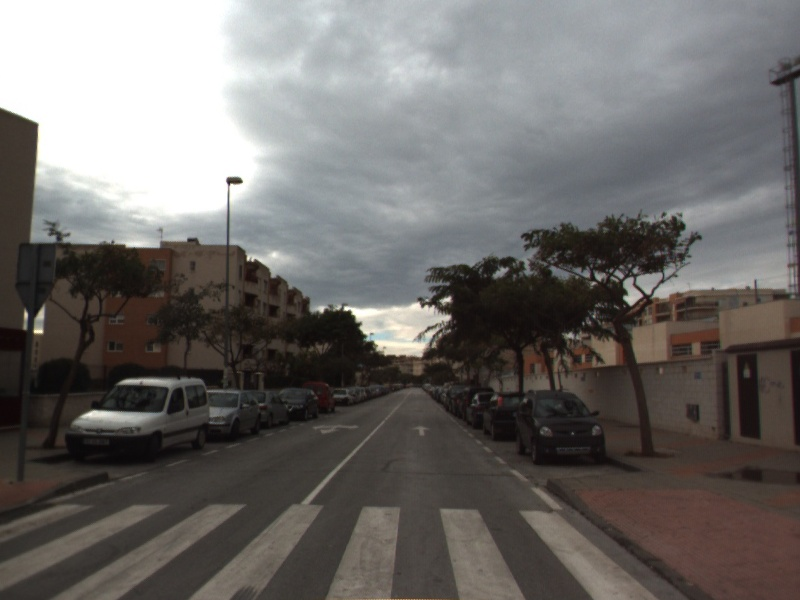STRAIGHT: (410, 423, 434, 437)
